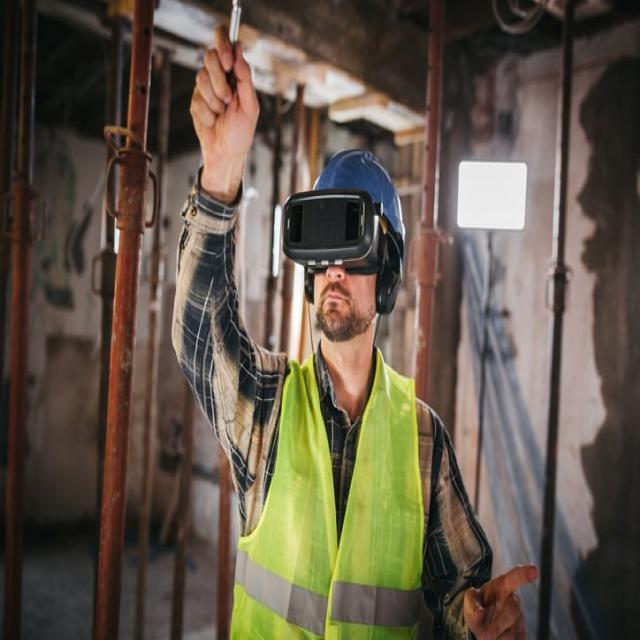goggles: (265, 188, 396, 285)
helmet: (290, 141, 420, 246)
vest: (238, 355, 422, 640)
